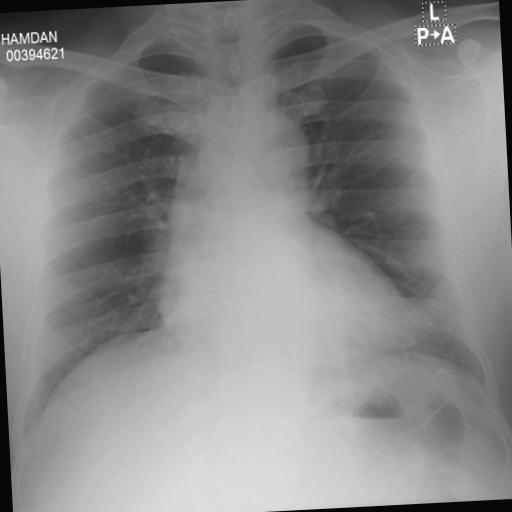kardiomegali: (4, 8, 510, 452)
